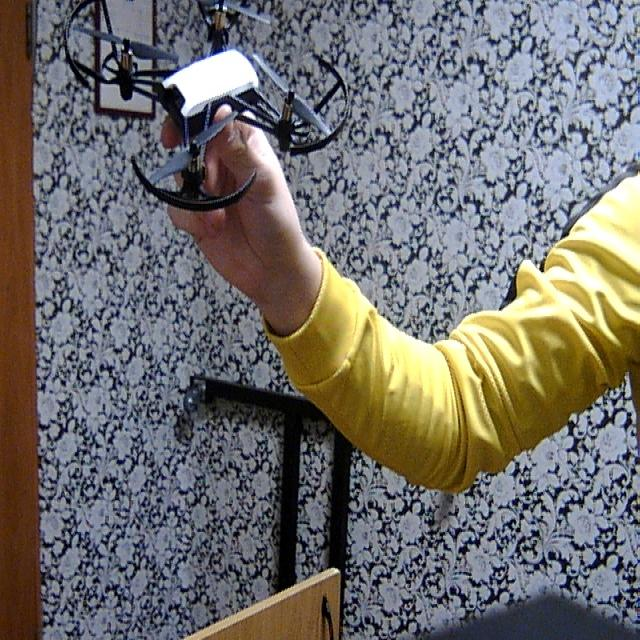drone: (54, 0, 356, 216)
